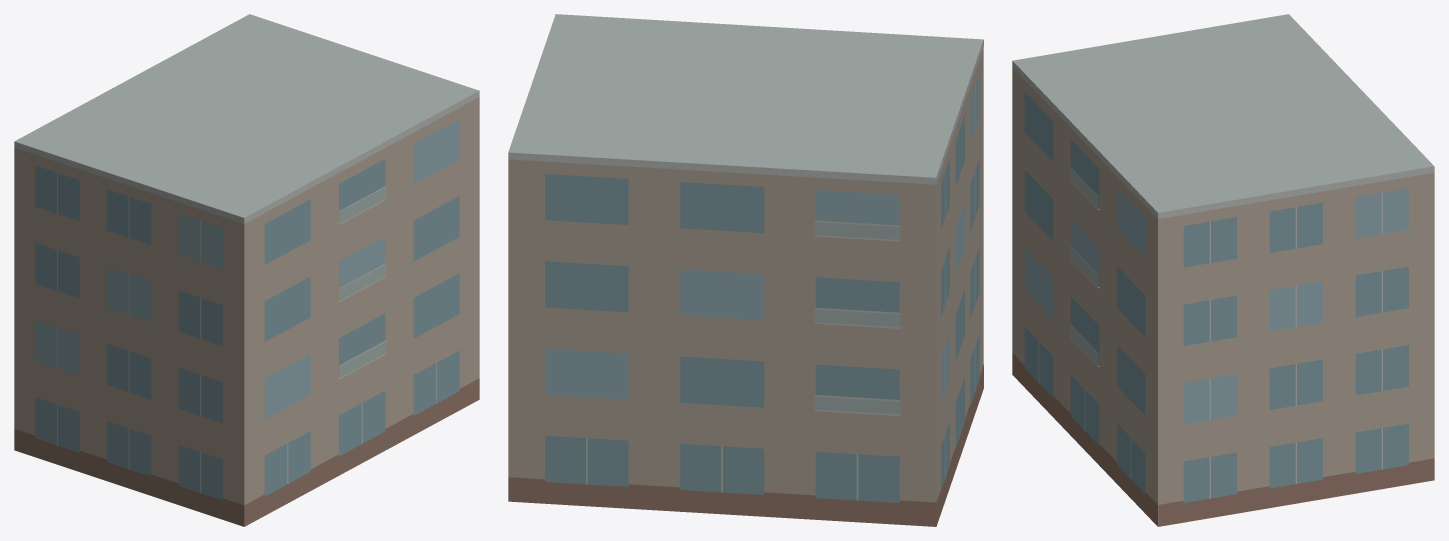
Rendered from survey-upis-32901619.glb.
3 views of the same model, side by side, from view 1: azimuth 30°, elevation 25°; view 2: azimuth 150°, elevation 25°; view 3: azimuth 270°, elevation 25° (orthographic). The views are drawn at different scales.
Parts seen in each view (by area): view 1: survey-upis-32901619.tmp; view 2: survey-upis-32901619.tmp; view 3: survey-upis-32901619.tmp.
Part boxes in pixels (x1,y1,x2,y2): survey-upis-32901619.tmp: (14,14,479,526); survey-upis-32901619.tmp: (508,14,983,526); survey-upis-32901619.tmp: (1012,14,1434,526).
Bounding box in the file's own units: 16.59 × 12.2 × 14.88.
